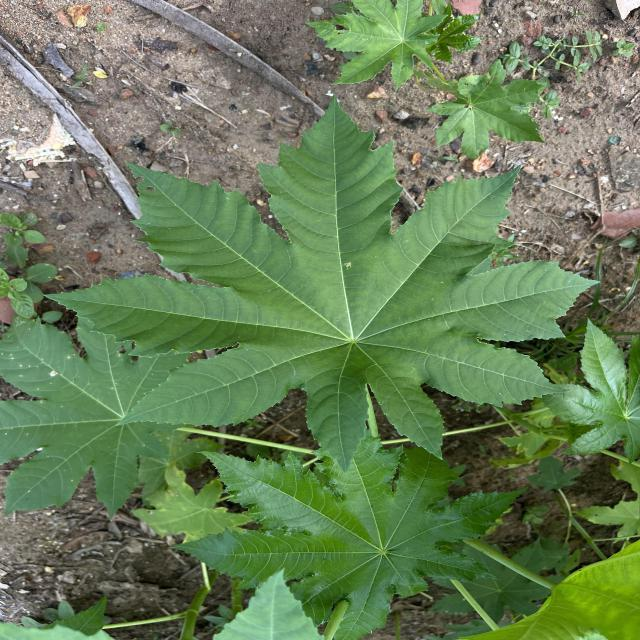Ricinus communis linn: (40, 89, 605, 478)
